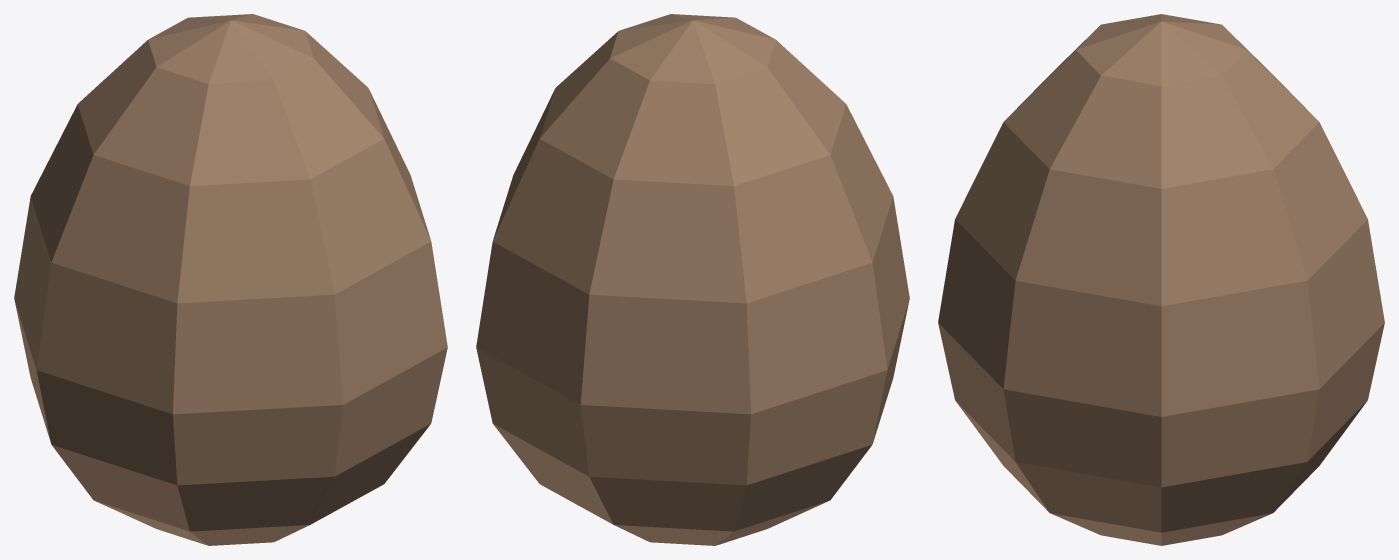
The model's file is egg.fbx.
The picture shows the model from 3 angles, left to right: view 1: azimuth 30°, elevation 25°; view 2: azimuth 150°, elevation 25°; view 3: azimuth 270°, elevation 25°; orthographic projection.
Visible parts, largest first — view 1: egg; view 2: egg; view 3: egg.
Boxes of the visible parts, x1,y1,x2,y2 form: egg: (14, 14, 447, 545); egg: (476, 14, 909, 545); egg: (938, 14, 1384, 545).
Bounding box in the file's own units: 2 × 2.49 × 2.
